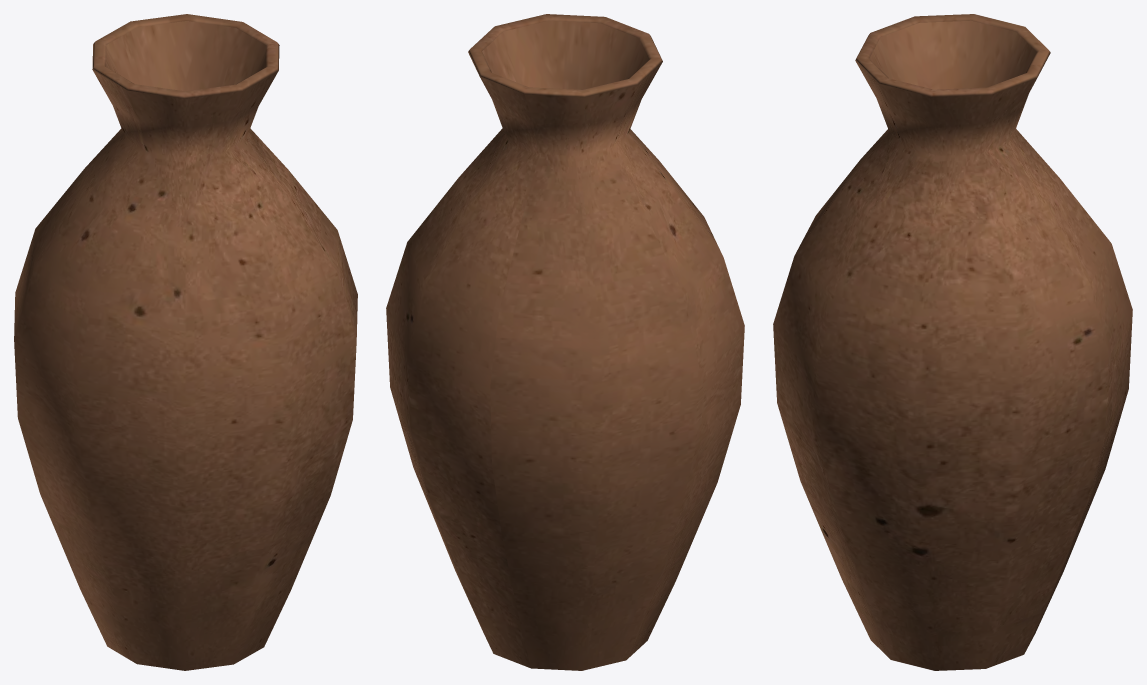
The model's file is Vase_08.glb.
3 views of the same model, side by side, from view 1: azimuth 30°, elevation 25°; view 2: azimuth 150°, elevation 25°; view 3: azimuth 270°, elevation 25° (orthographic).
Visible parts, largest first — view 1: SM_Vase_08; view 2: SM_Vase_08; view 3: SM_Vase_08.
Boxes of the visible parts, <box> form: SM_Vase_08: <box>14,14,357,670</box>; SM_Vase_08: <box>386,14,744,670</box>; SM_Vase_08: <box>773,14,1132,670</box>.
Size of the model in its own units: 0.2705 by 0.4938 by 0.276.
1 material, 1 textured.
